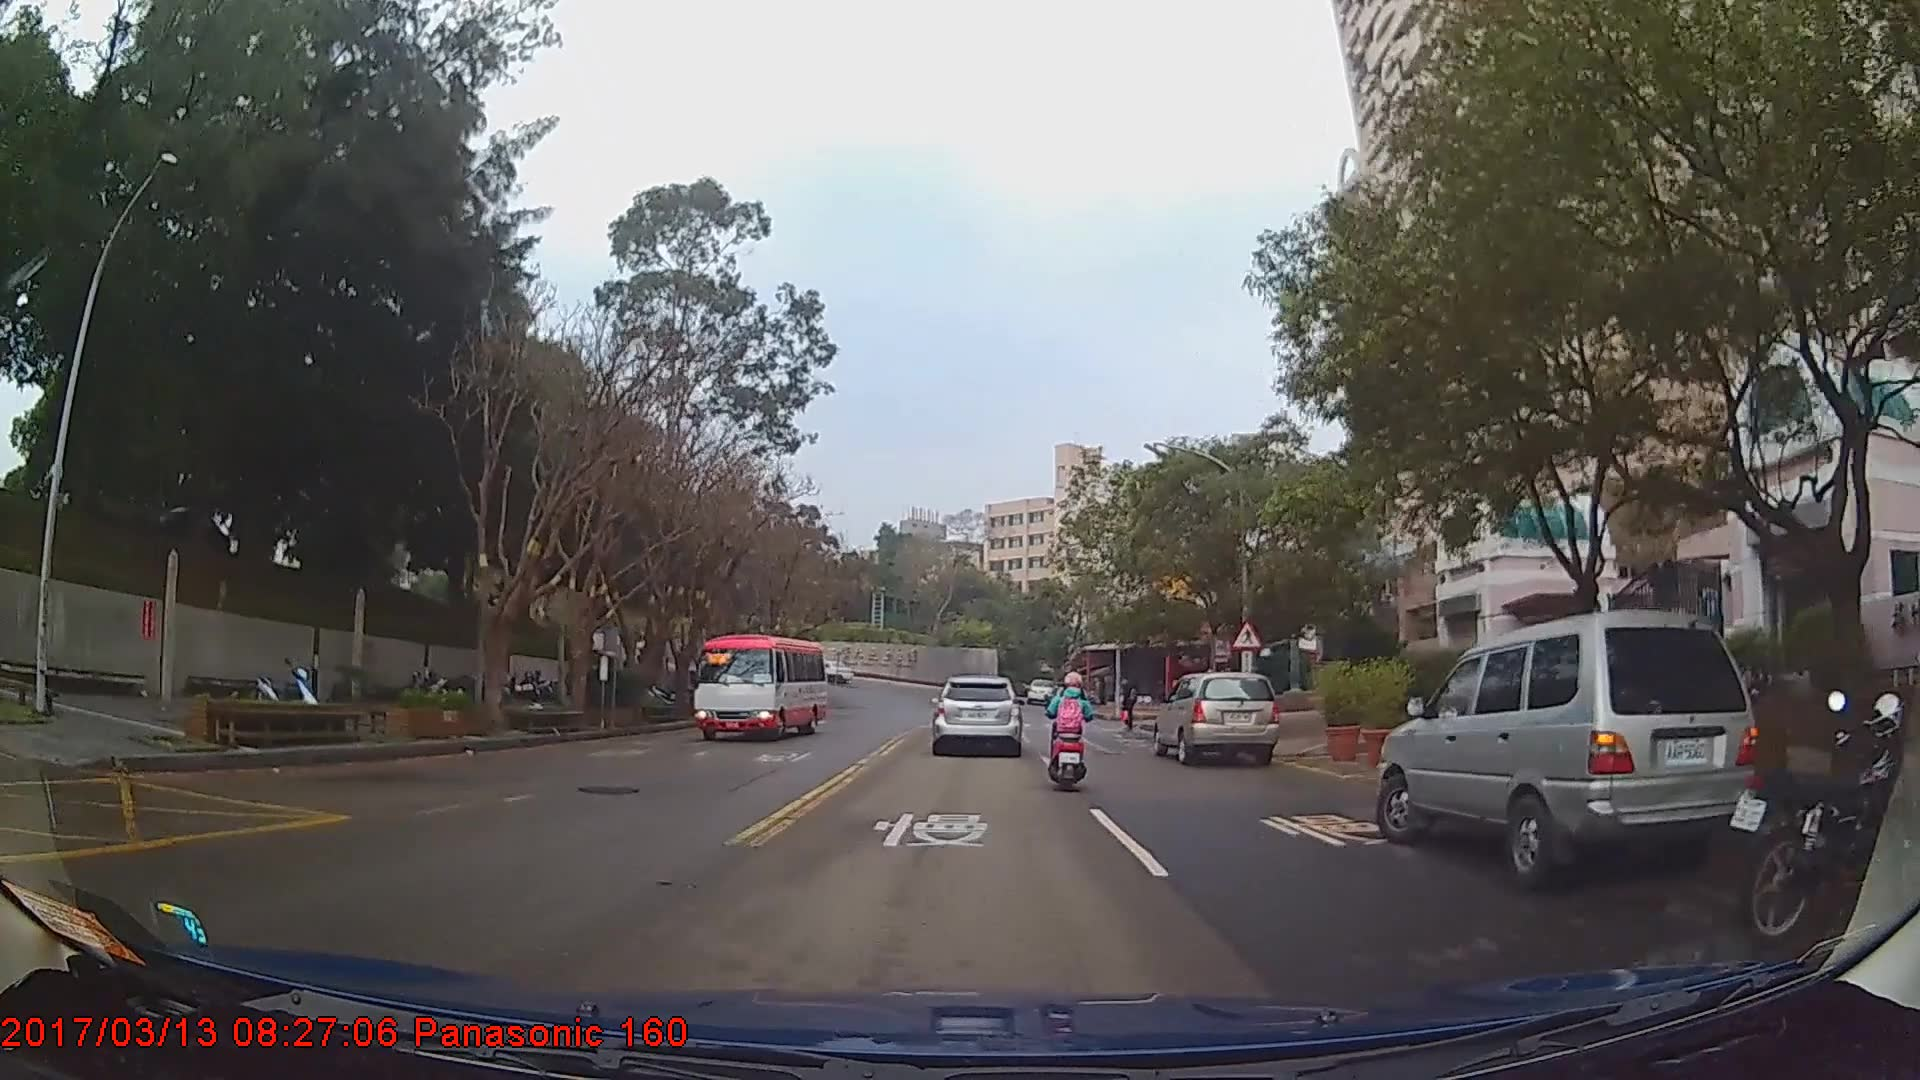pedestrian: (1116, 673, 1141, 735)
rider: (1043, 665, 1098, 795)
vehicle: (1380, 606, 1759, 890), (693, 631, 828, 740), (1152, 670, 1279, 766), (929, 674, 1023, 757), (1026, 677, 1057, 703)
